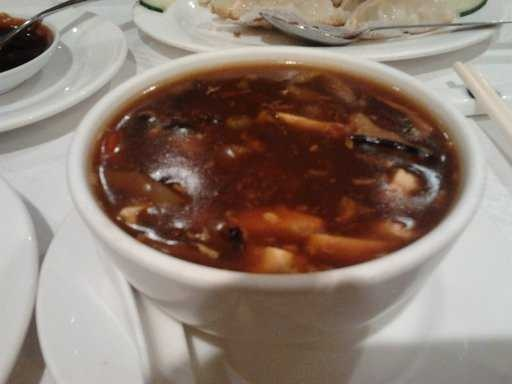soup: (113, 67, 407, 269)
